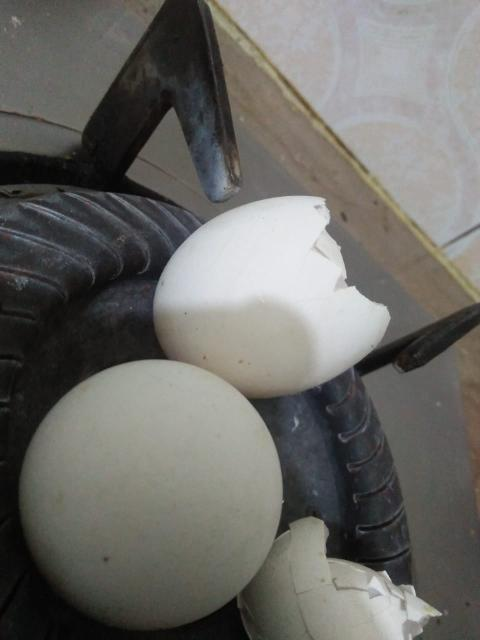Roto: (17, 357, 284, 631), (151, 194, 391, 399), (236, 515, 442, 639)
